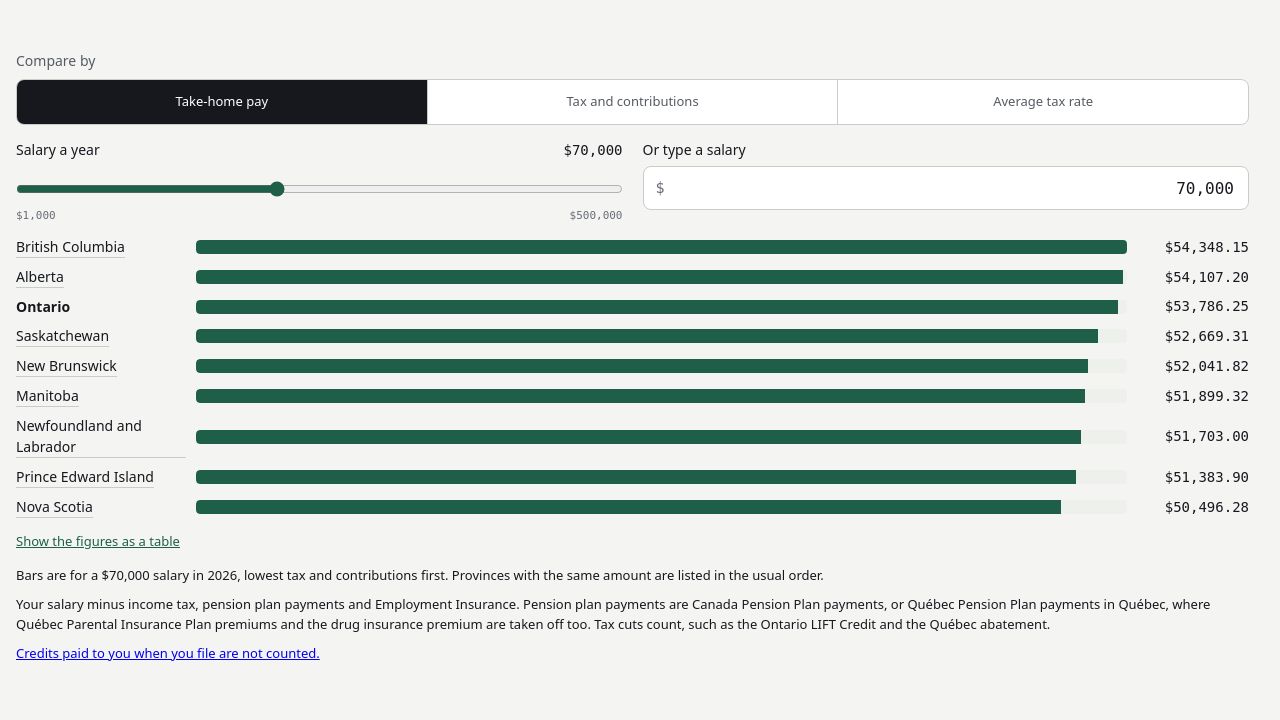
the measure toggle › re-words the bars for tax and contributions and keeps the order
Click the radio button labelled "Tax and contributions". click: (632, 102)
box: [427, 80, 837, 124]
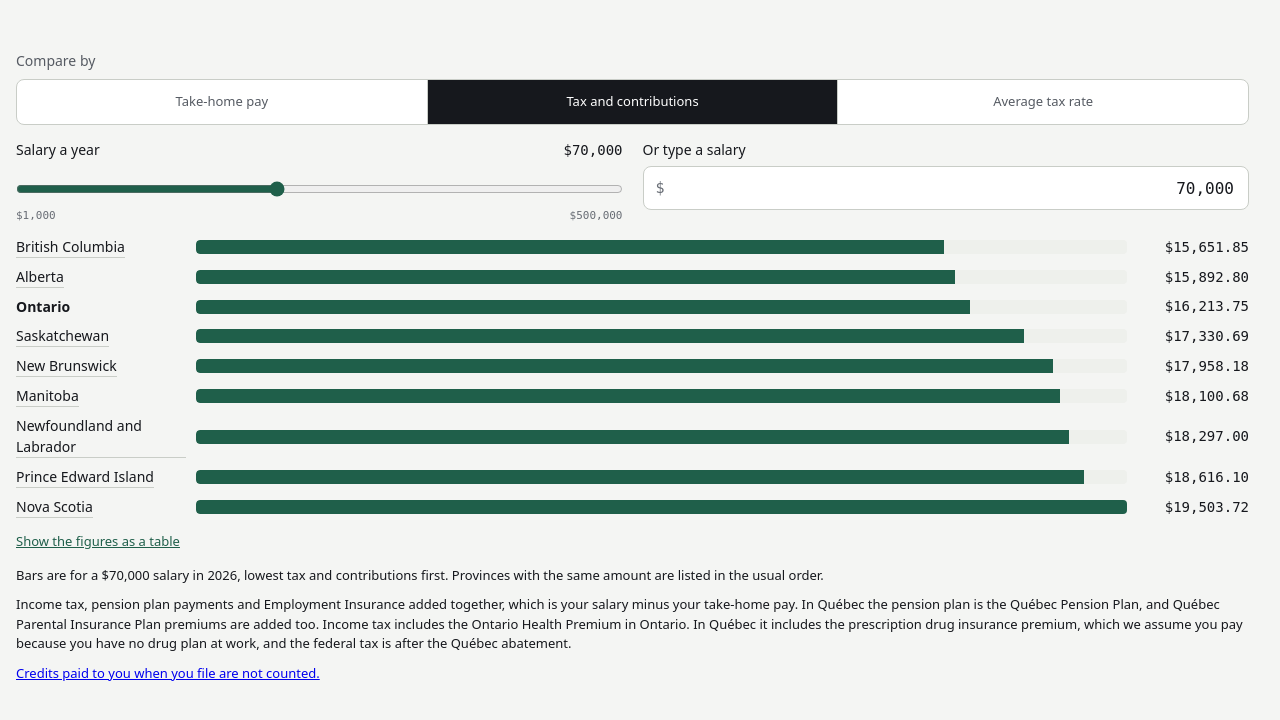
Expected: the text "Income tax, pension plan payments and Employment Insurance added together, which is your salary minus your take-home pay" is shown, [16, 595, 1243, 652]
Expected: the text "Your salary minus income tax, pension plan payments and Employment Insurance. Pension plan payments are Canada Pension P" is gone
Expected: the element named "Bar chart: Tax and contributions for a $70,000 salary, by province. These figures, and every other salary, are in the ta" is shown, [16, 236, 1249, 518]
